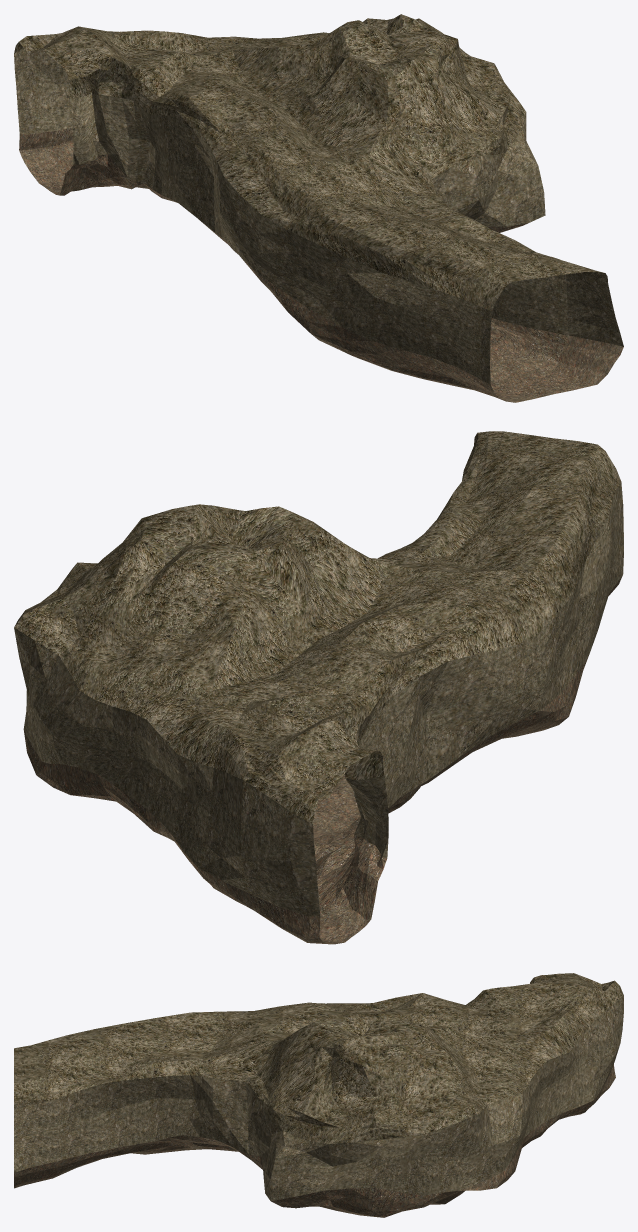
Rendered from thm_tato_fort_tusken_r8_mesh_r8.fbx.
3 renders of one model, top to bottom at view 1: azimuth 30°, elevation 25°; view 2: azimuth 150°, elevation 25°; view 3: azimuth 270°, elevation 25°, orthographic. The views are drawn at different scales.
Parts seen in each view (by area): view 1: mesh_node; view 2: mesh_node; view 3: mesh_node.
Part boxes in pixels (x1,y1,x2,y2): mesh_node: (14, 14, 623, 402); mesh_node: (14, 431, 623, 944); mesh_node: (14, 973, 623, 1217).
Bounding box in the file's own units: 25.71 × 14.4 × 46.94.
